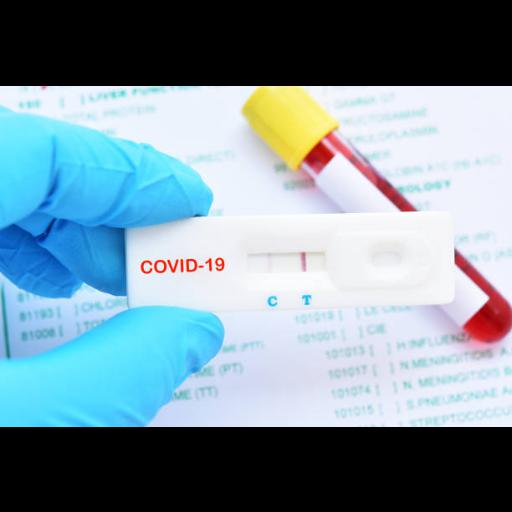Pos: (130, 215, 456, 309)
